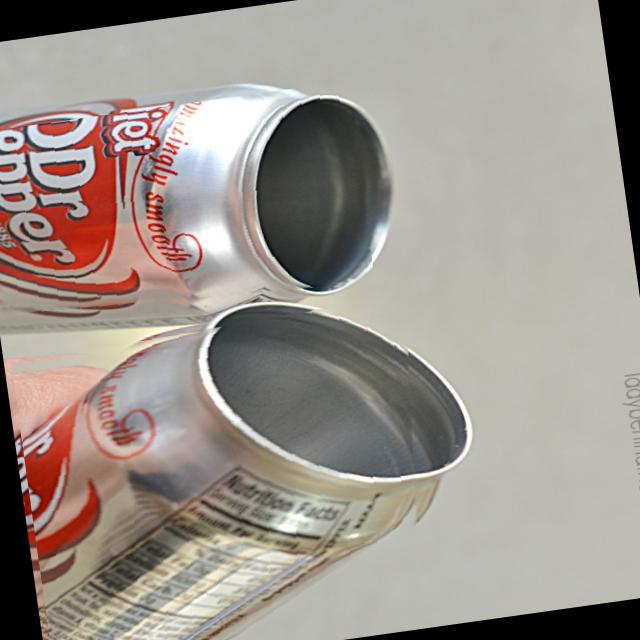Cans: (8, 294, 451, 640), (0, 81, 374, 335)
